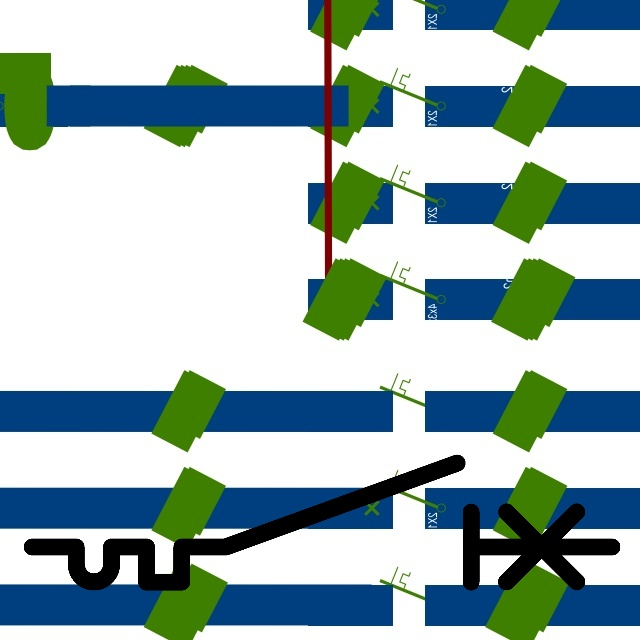interruptor_termomagnetico: (17, 448, 627, 597)
